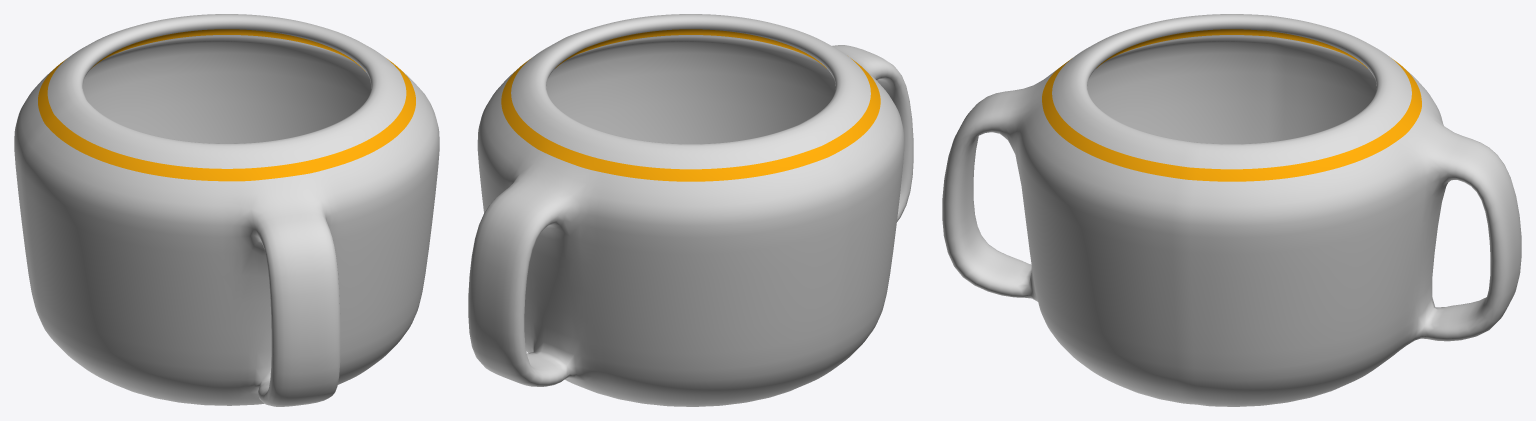
The model's file is sugar bowl&lid.fbx.
3 views of the same model, side by side, from view 1: azimuth 30°, elevation 25°; view 2: azimuth 150°, elevation 25°; view 3: azimuth 270°, elevation 25° (orthographic).
Visible parts, largest first — view 1: sugar bowl; view 2: sugar bowl; view 3: sugar bowl.
Part boxes in pixels (bbox=[...]): sugar bowl: bbox=[14, 14, 439, 406]; sugar bowl: bbox=[468, 14, 913, 406]; sugar bowl: bbox=[942, 14, 1521, 406].
Bounding box in the file's own units: 3.38 × 2.46 × 4.59.
